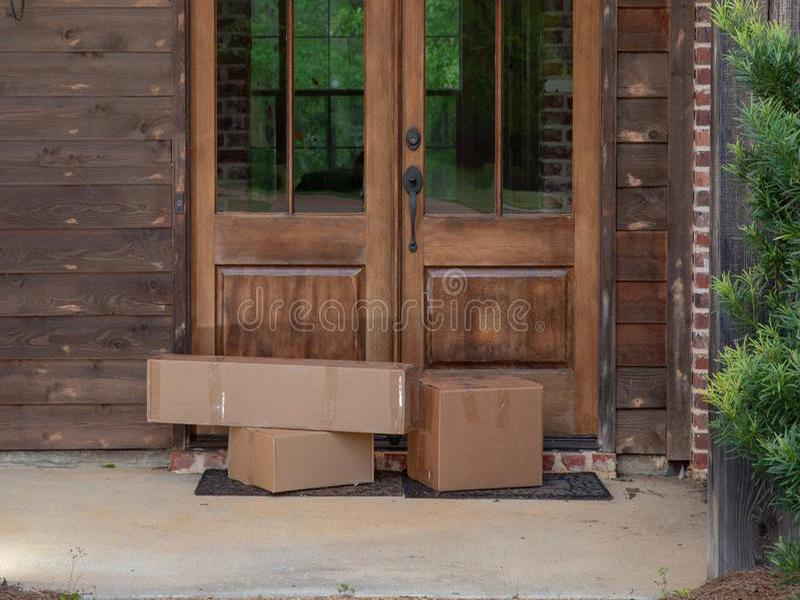package: (138, 348, 424, 441), (408, 363, 552, 495), (221, 426, 379, 497)
